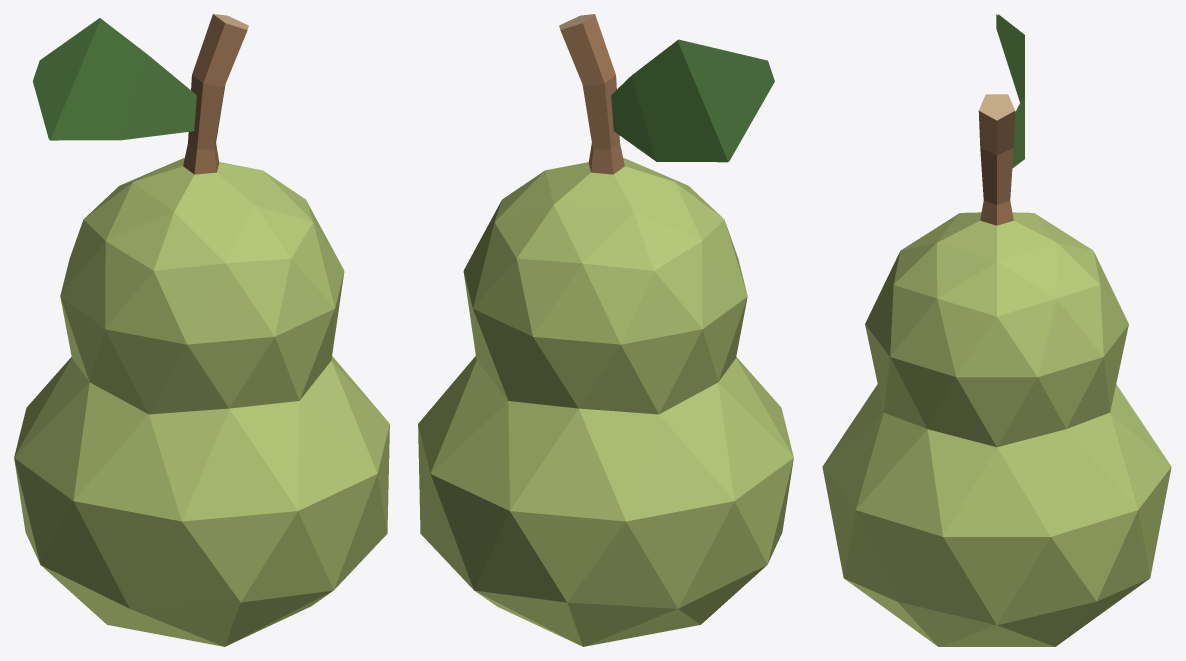
The model's file is Pear.fbx.
3 renders of one model, left to right at view 1: azimuth 30°, elevation 25°; view 2: azimuth 150°, elevation 25°; view 3: azimuth 270°, elevation 25°, orthographic. The views are drawn at different scales.
Parts seen in each view (by area): view 1: Pear; view 2: Pear; view 3: Pear.
Boxes of the visible parts, x1=… form: Pear: x1=14, y1=14, x2=389, y2=646; Pear: x1=418, y1=14, x2=793, y2=646; Pear: x1=822, y1=14, x2=1171, y2=646.
Size of the model in its own units: 0.3699 by 0.6671 by 0.3767.
